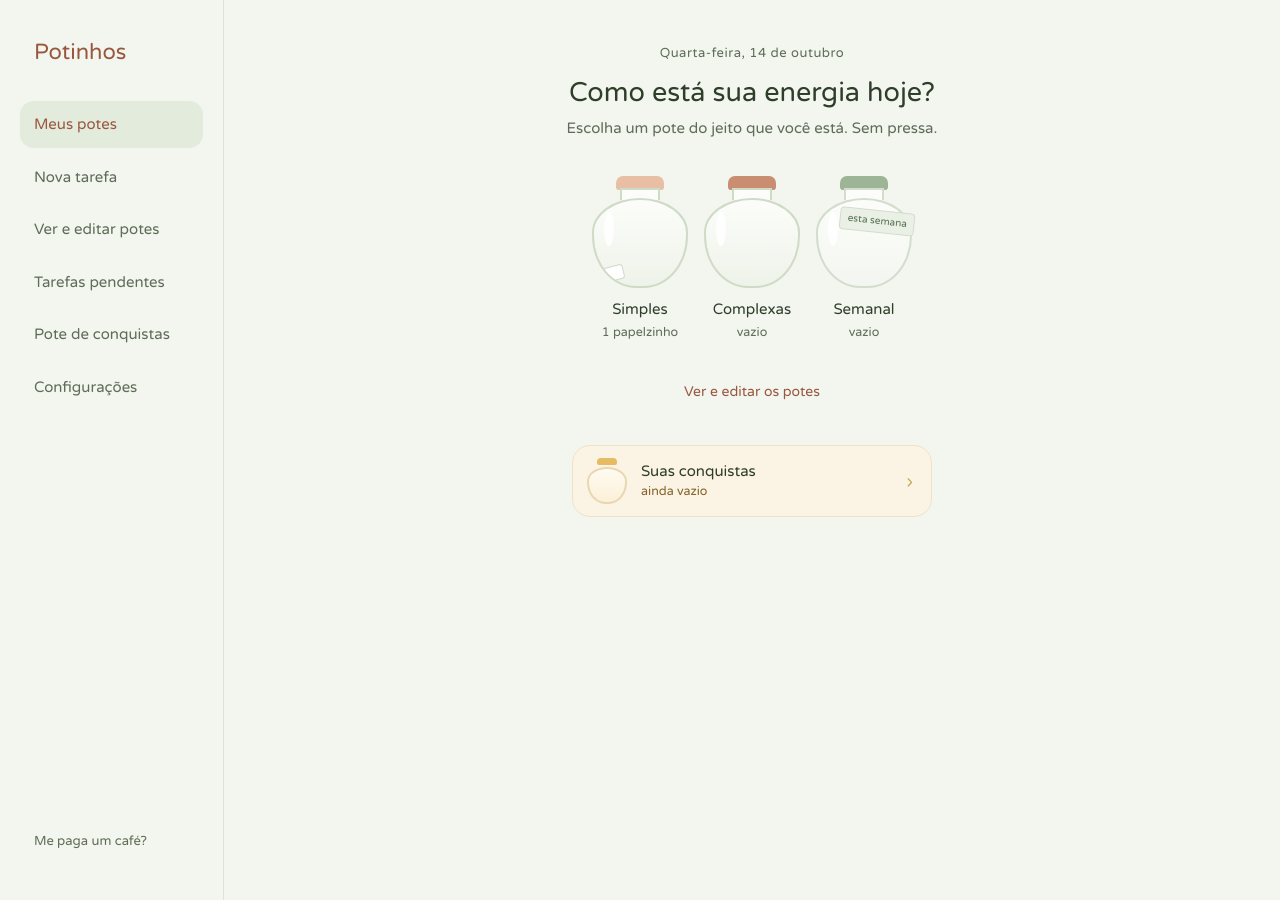
CurrentTask › shows the drawn task with its jar
The width and height of the screenshot is (1280, 900).
Expected: the heading "Como está sua energia hoje?" is shown, [569, 76, 935, 108]
Click the button with aria-label "Pote ": (640, 259) [592, 176, 688, 343]
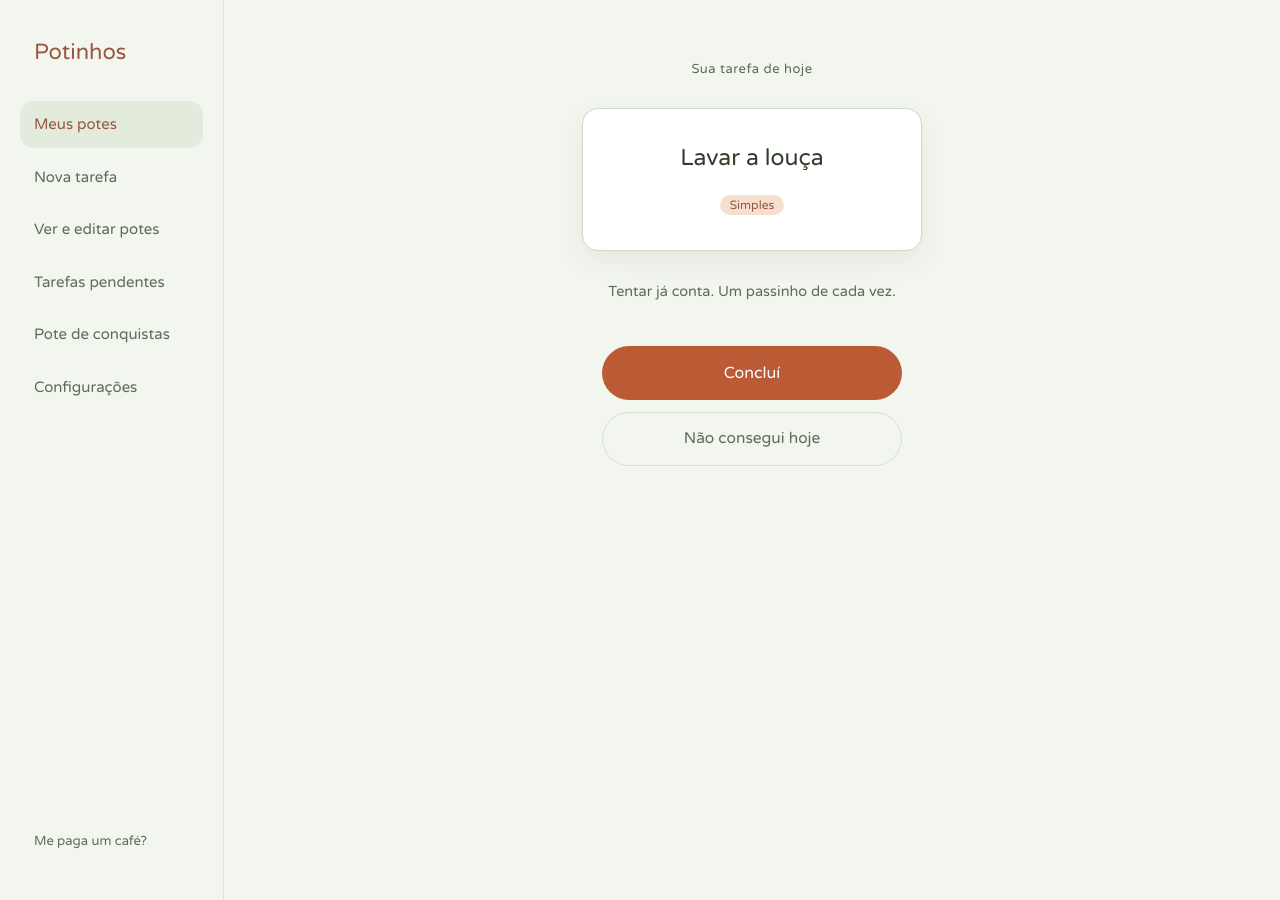
Expected: the heading "Sua tarefa de hoje" is shown, [691, 61, 812, 77]
Expected: the text "Lavar a louça" is shown, [680, 144, 824, 172]
Expected: the text "Tentar já conta. Um passinho de cada vez." is shown, [608, 282, 896, 300]
